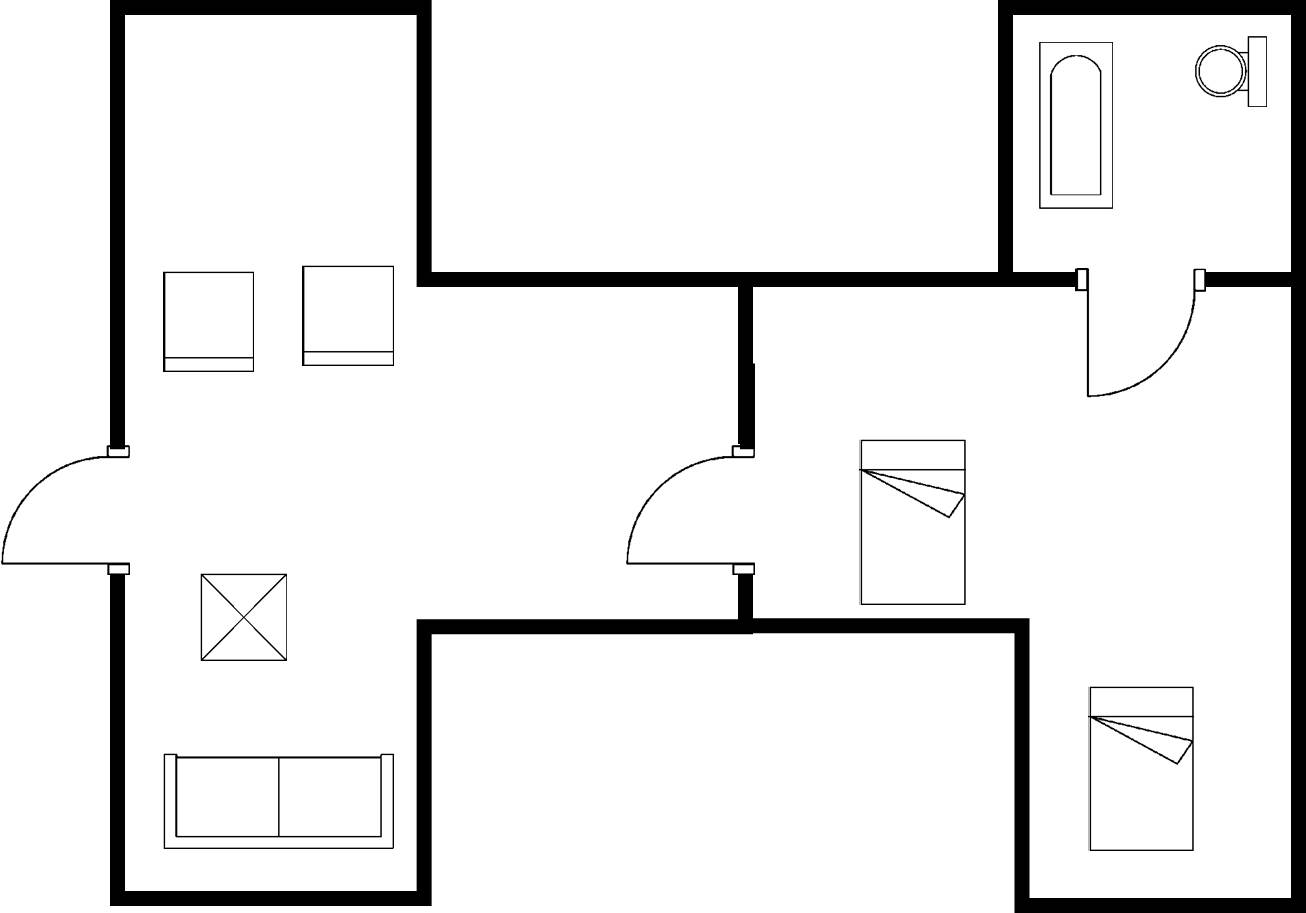bed: (853, 431, 972, 610), (1083, 679, 1199, 858)
coffee_table: (193, 566, 295, 667)
large_sink: (1187, 28, 1277, 118)
large_sofa: (156, 747, 401, 857)
small_sofa: (155, 265, 262, 381), (297, 259, 399, 373)
tub: (1032, 35, 1117, 214)
